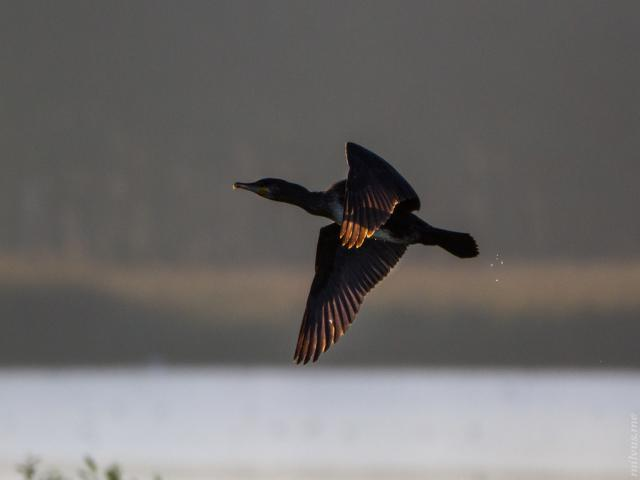Bird: (230, 135, 480, 373)
